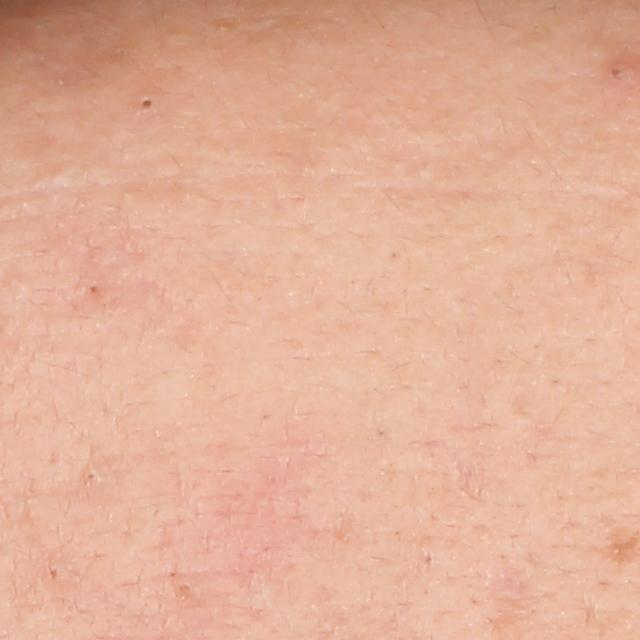comedo: (129, 92, 160, 117), (81, 280, 106, 305), (82, 466, 107, 490), (44, 561, 62, 587), (175, 580, 191, 595)
